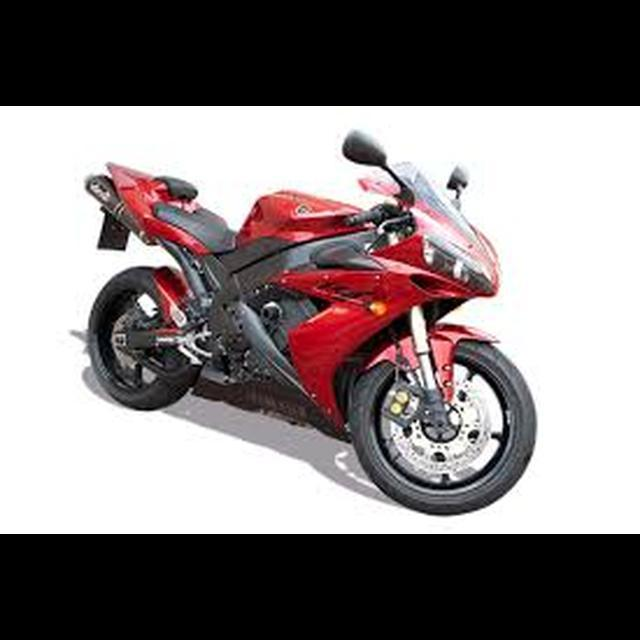motorcycle: (67, 125, 540, 520)
